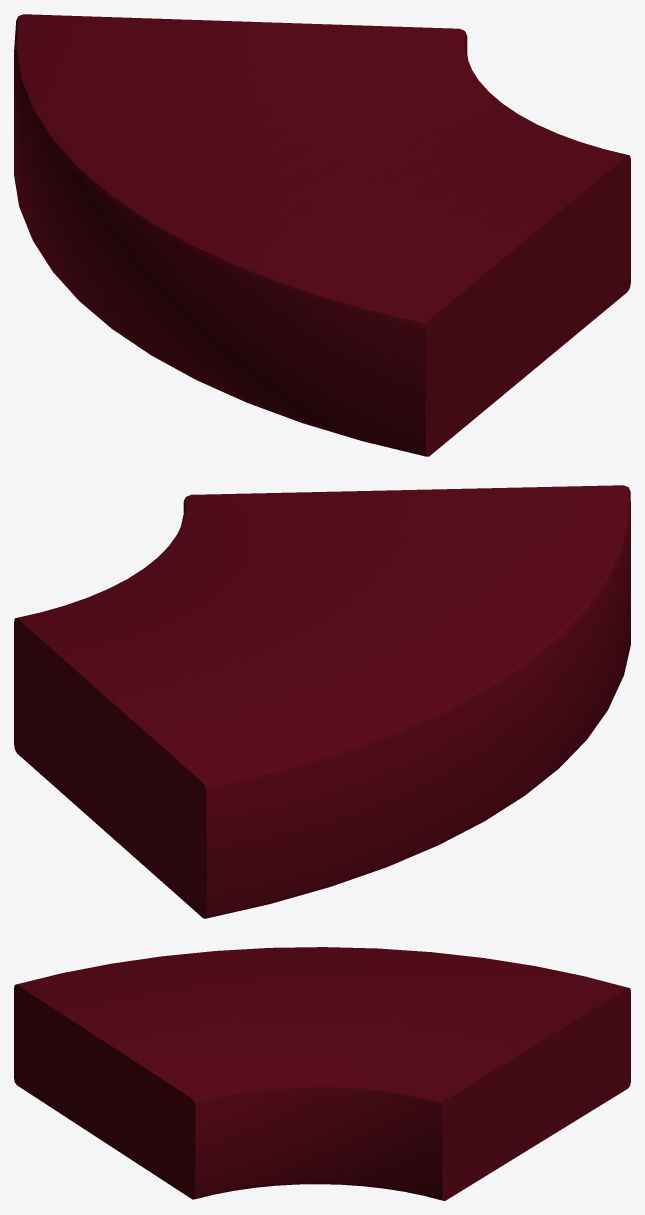
The model's file is Big.fbx.
3 views of the same model, one above another, from view 1: azimuth 30°, elevation 25°; view 2: azimuth 150°, elevation 25°; view 3: azimuth 270°, elevation 25° (orthographic). The views are drawn at different scales.
Parts seen in each view (by area): view 1: Big; view 2: Big; view 3: Big.
Boxes of the visible parts, x1=… form: Big: x1=14, y1=14, x2=630, y2=456; Big: x1=14, y1=485, x2=630, y2=918; Big: x1=14, y1=947, x2=630, y2=1200.
Size of what is drawn, in the model's own units: 67.03 by 20 by 111.
